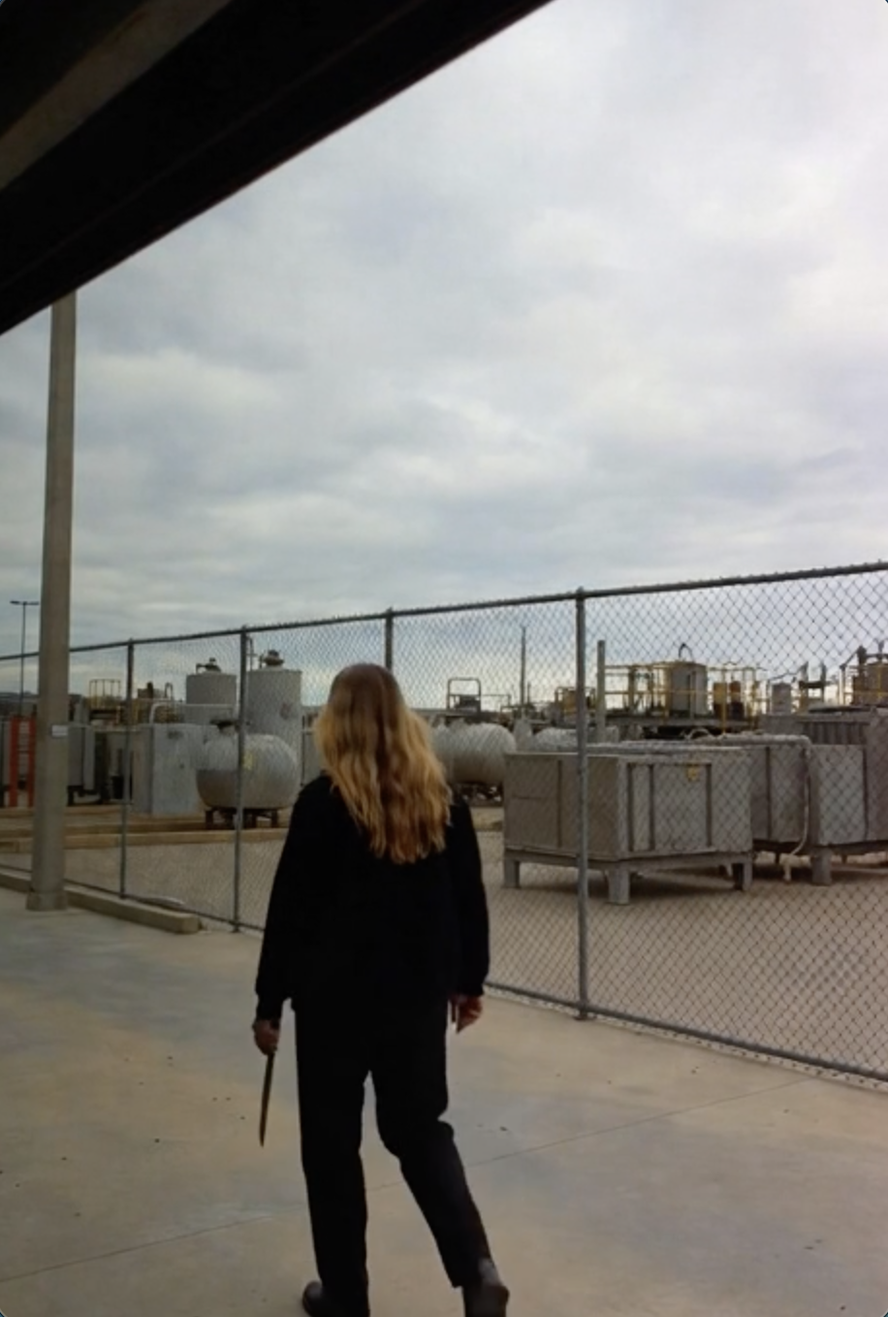Heavy Gun: (242, 648, 499, 1317)
Knife: (242, 996, 303, 1162)
